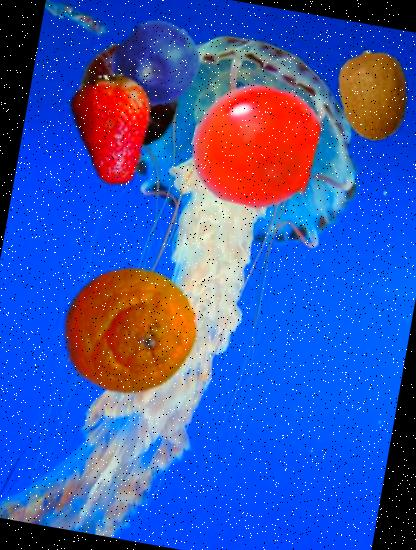Huckleberry: (106, 13, 208, 115)
Kiwi: (320, 43, 416, 148)
Mandarine: (49, 251, 208, 410)
Plum: (63, 34, 188, 158)
Redcurrant: (182, 72, 328, 218)
Strawberry: (46, 66, 176, 196)
